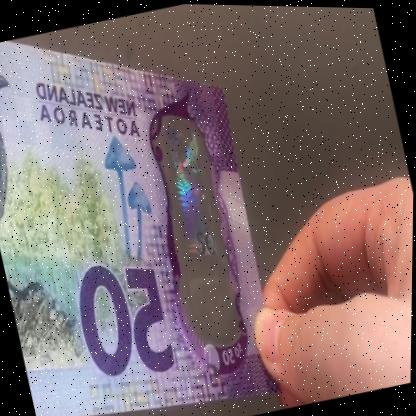50B: (153, 120, 243, 327)
